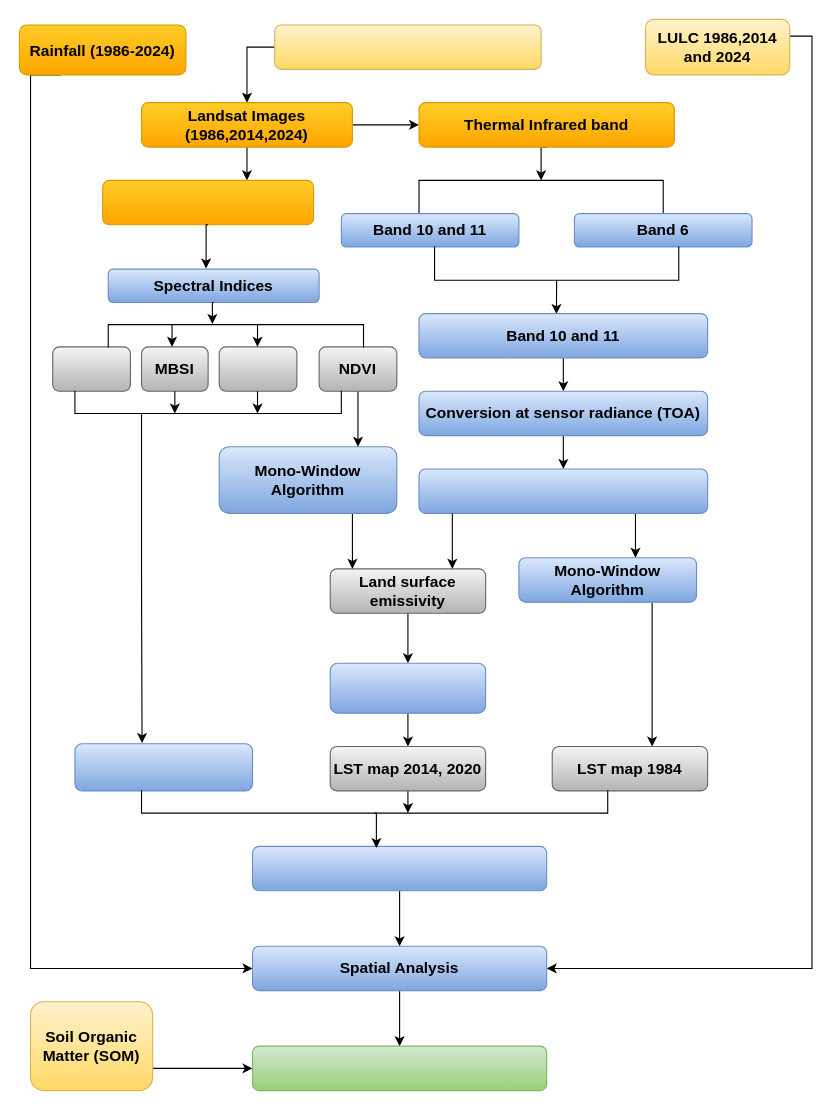
Some shapes in this 840 by 1110 pixel diagram are drawn without their labels. Each missing label, with the centre of its shape:
"AT sensor brightness Temperature (TB)" goes at (563,490).
"Correlation Analysis" goes at (399,868).
"GSI" goes at (91,368).
"Multispectral Band" goes at (208,202).
"NDISI" goes at (257,368).
"Satellite Data" goes at (407,46).
"Soil degradation Index" goes at (399,1068).
"Split-Window Algorithm" goes at (407,687).
"Temporal Analysis" goes at (163,767).
